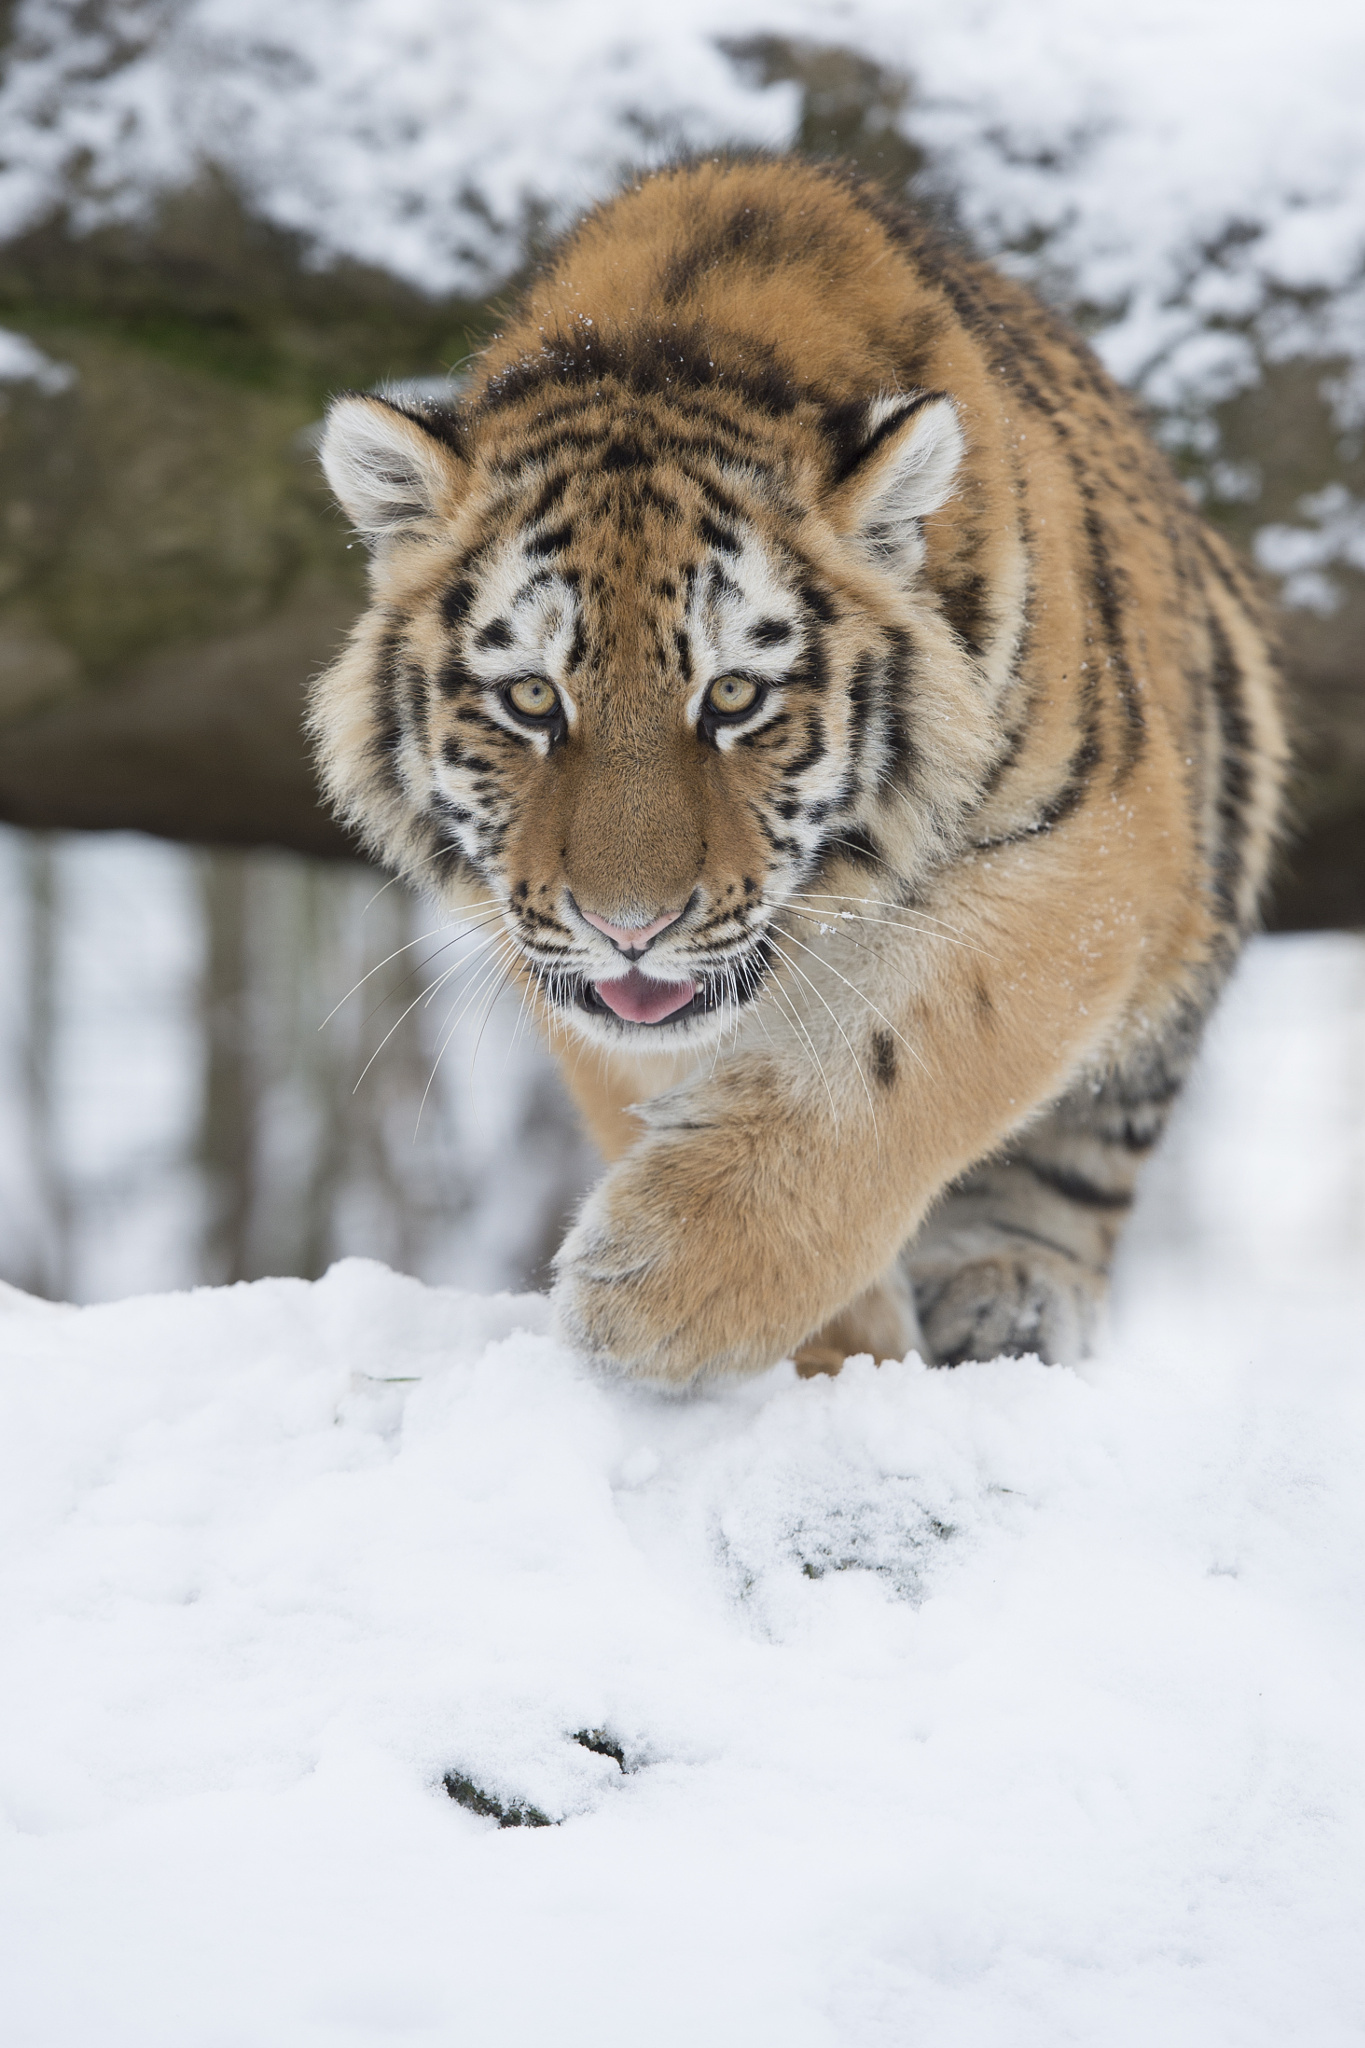tiger: (311, 148, 1252, 1434)
